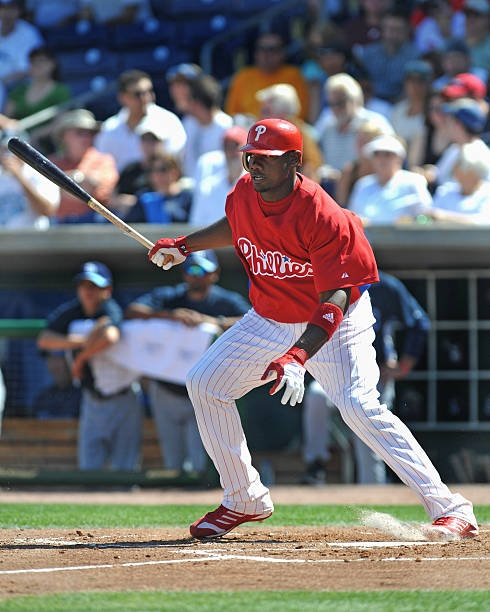bita: (7, 136, 166, 257)
